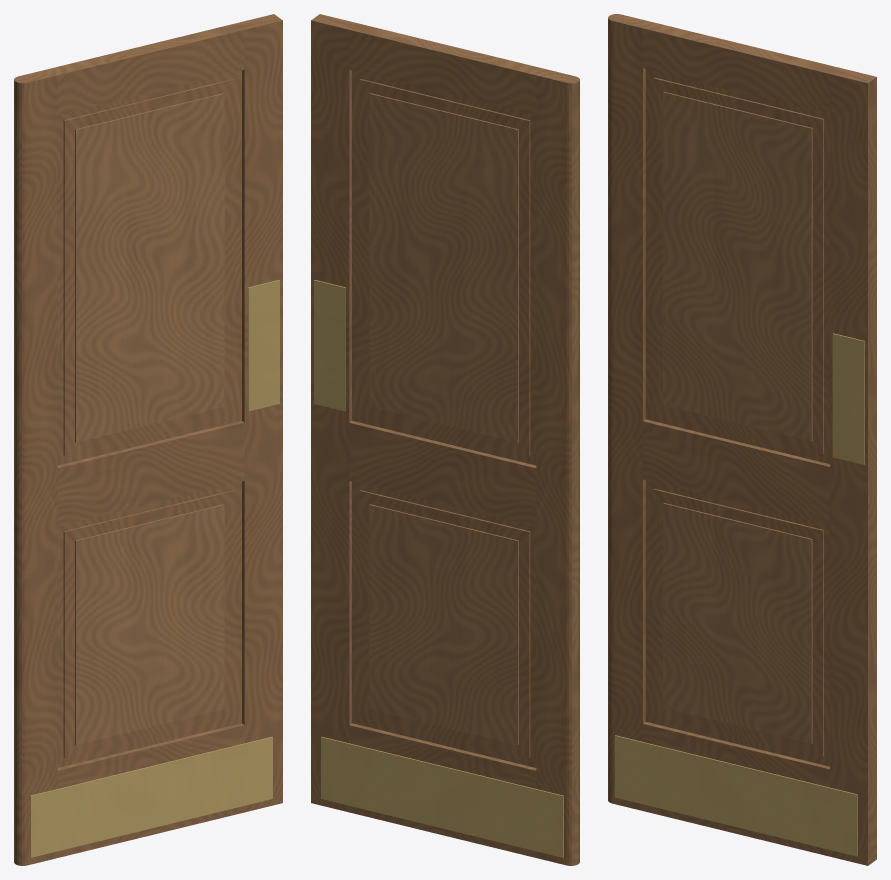
File: swing_door_left.glb
The picture shows the model from 3 angles, left to right: view 1: azimuth 30°, elevation 25°; view 2: azimuth 150°, elevation 25°; view 3: azimuth 330°, elevation 25°; orthographic projection.
Visible parts, largest first — view 1: swing_door_left; view 2: swing_door_left; view 3: swing_door_left.
Part boxes in pixels (x1,y1,x2,y2): swing_door_left: (14,14,282,865); swing_door_left: (311,14,579,865); swing_door_left: (608,14,876,865).
Size of the model in its own units: 0.758 by 2.15 by 0.05.
3 materials, 3 textured.
